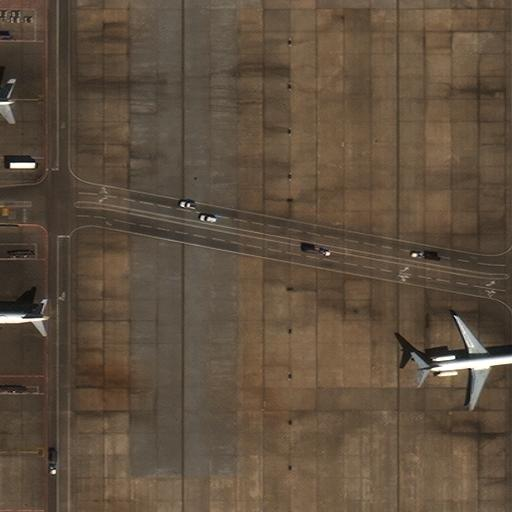Medium Civil Transport: (417, 315, 512, 409), (0, 280, 50, 353)
